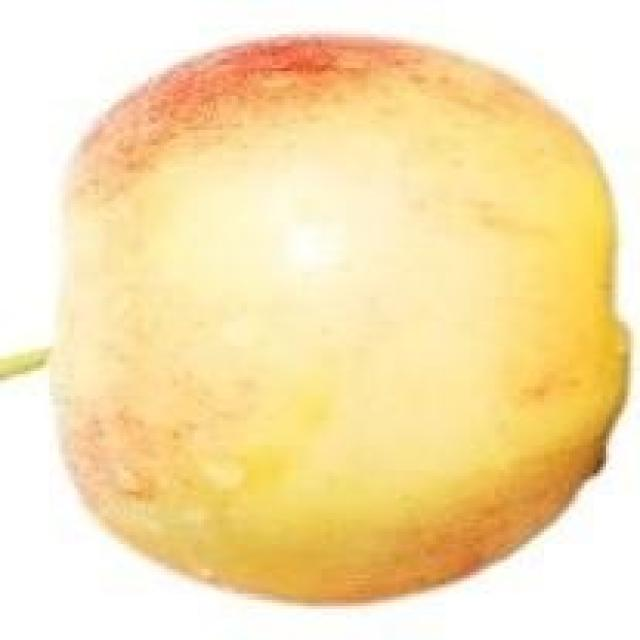Rotten Apple: (62, 35, 621, 608)
